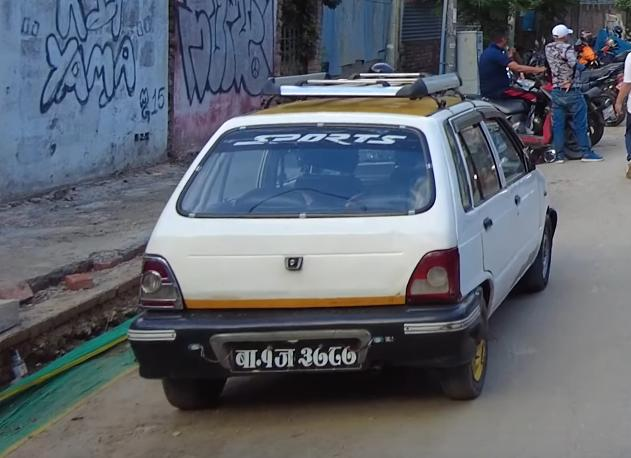taxi: (117, 61, 563, 414)
